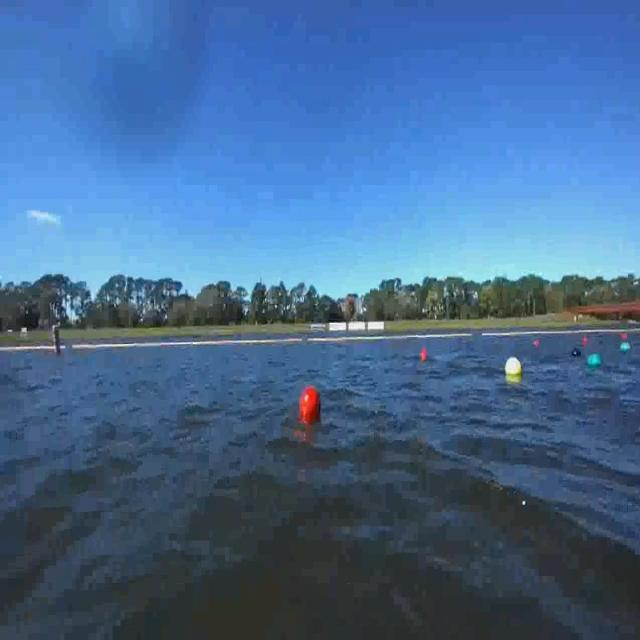black-buoy: (571, 349, 582, 357)
green-buoy: (586, 354, 600, 369)
red-buoy: (299, 388, 319, 424), (581, 337, 587, 347)
red-column-buoy: (421, 348, 427, 362)
yellow-buoy: (504, 357, 522, 379)
